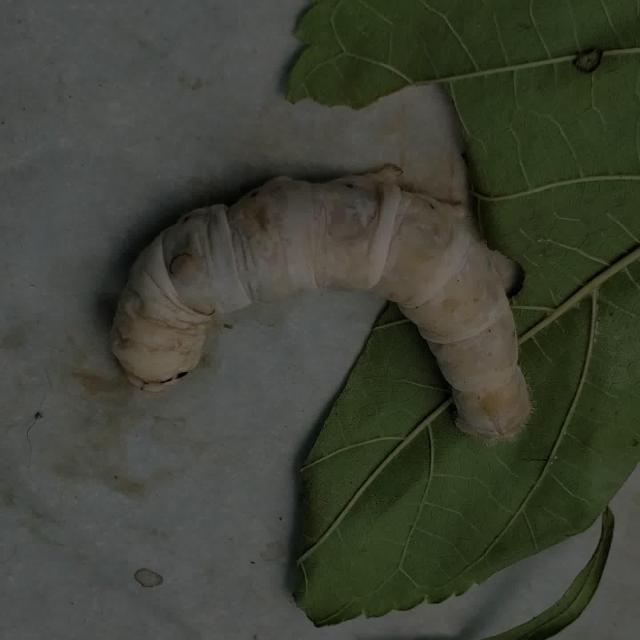Grasserie: (105, 139, 538, 454)
